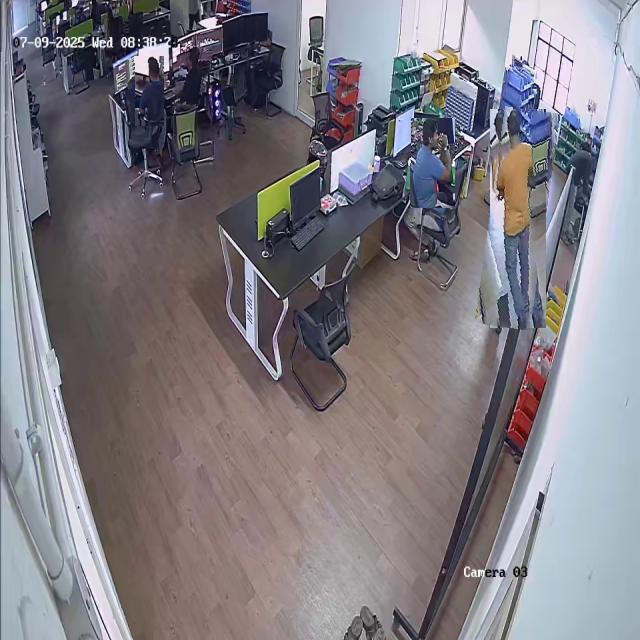person: (483, 108, 553, 329), (411, 118, 455, 208), (175, 45, 210, 104), (135, 56, 164, 126)
